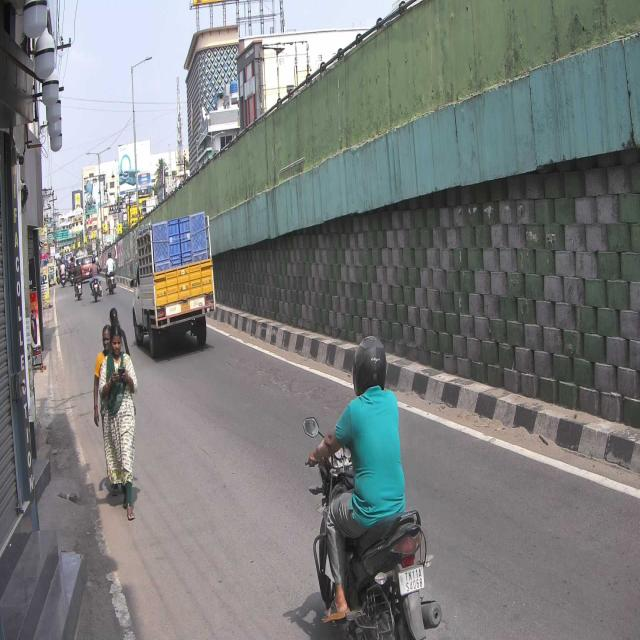single_rider: (305, 335, 444, 640)
